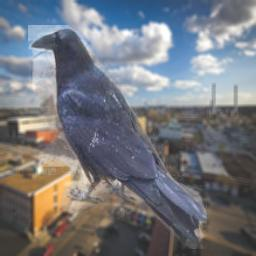Crow: (28, 25, 207, 249)
